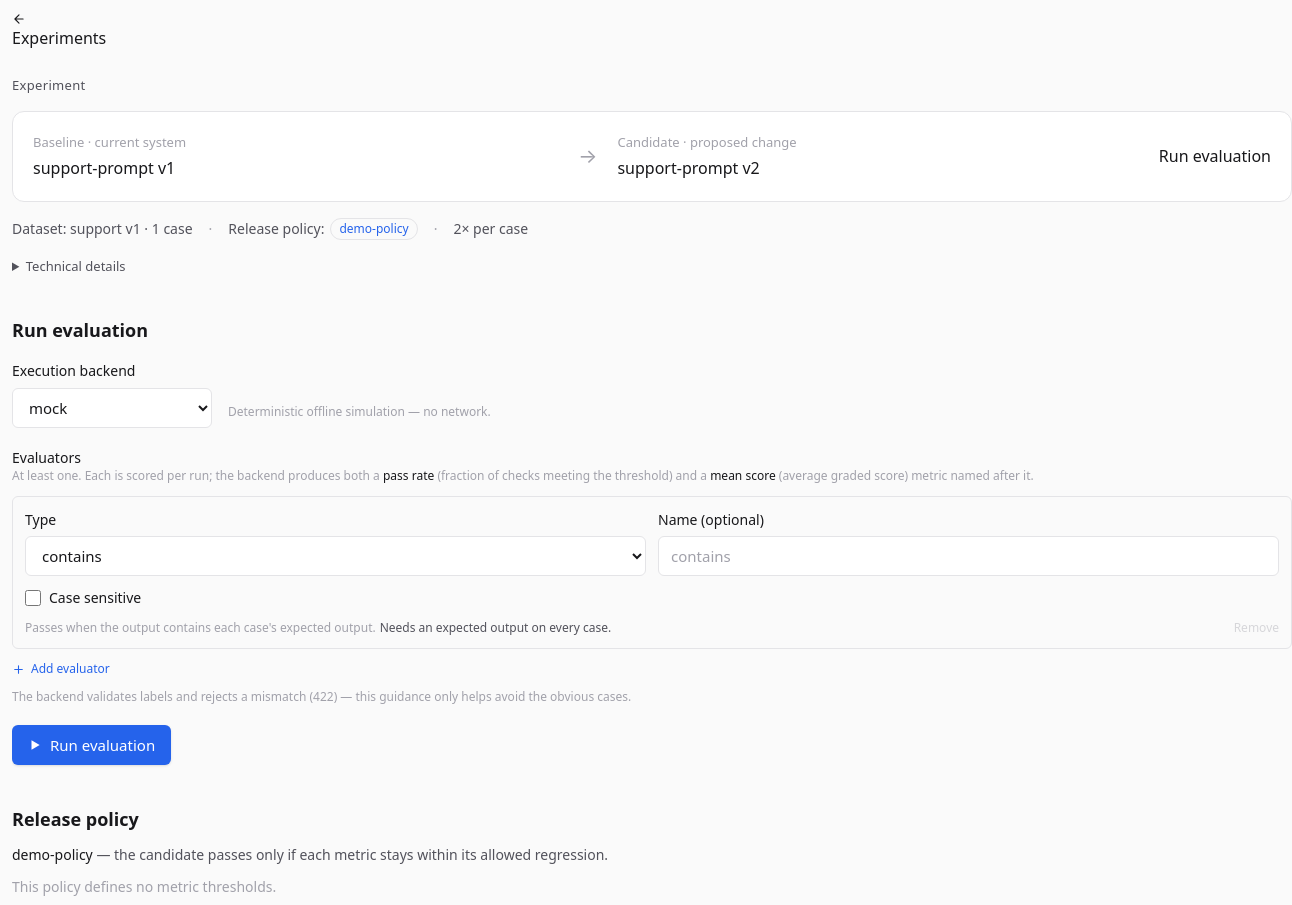
Test: ExperimentDetailPage › polls queued -> running -> completed, then shows the persisted PASS decision
Click the button "Run evaluation" at (92, 745), box [12,725,171,765]
Wait 14000 ms
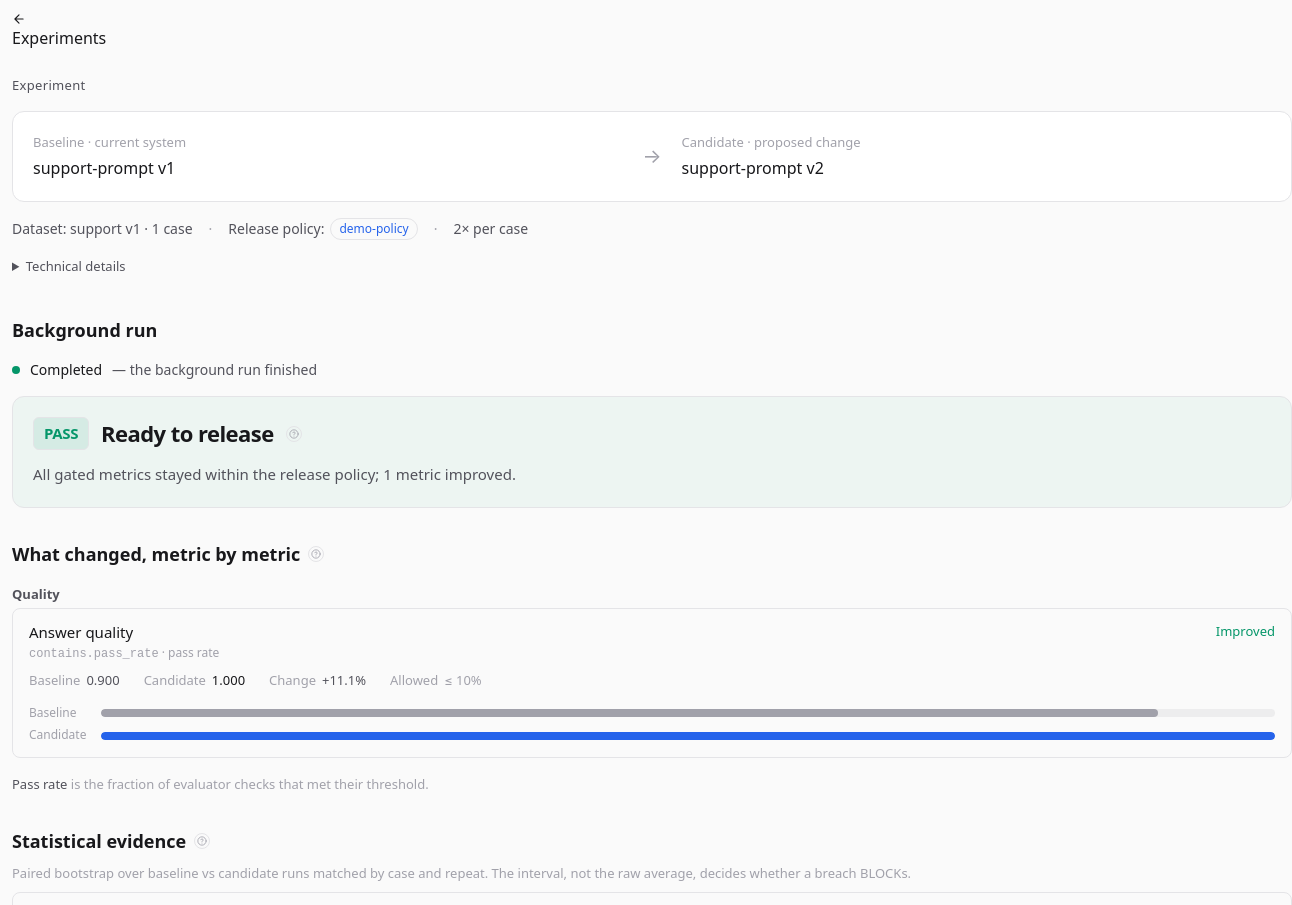
expect the text "Completed" is shown: met, box [30,360,102,380]
expect the text "PASS" is shown: met, box [33,417,89,450]
expect the text "Answer quality" below "What changed, metric by metric" is shown: met, box [29,622,133,642]
